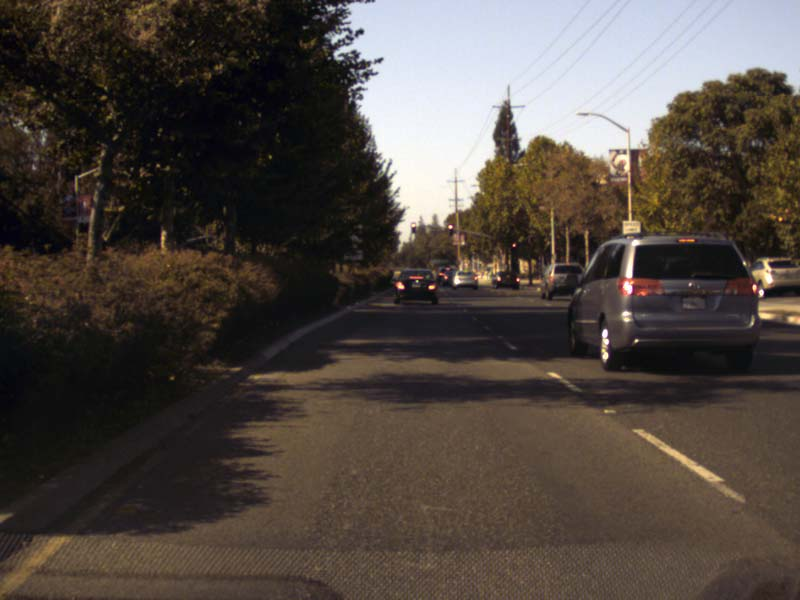Red: (410, 222, 415, 232)
Yellow: (510, 239, 517, 250), (447, 224, 453, 235)
